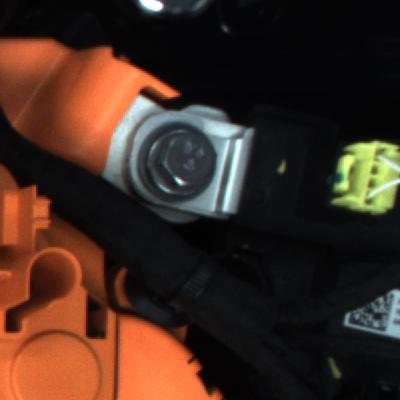nut_b: (129, 117, 232, 207)
